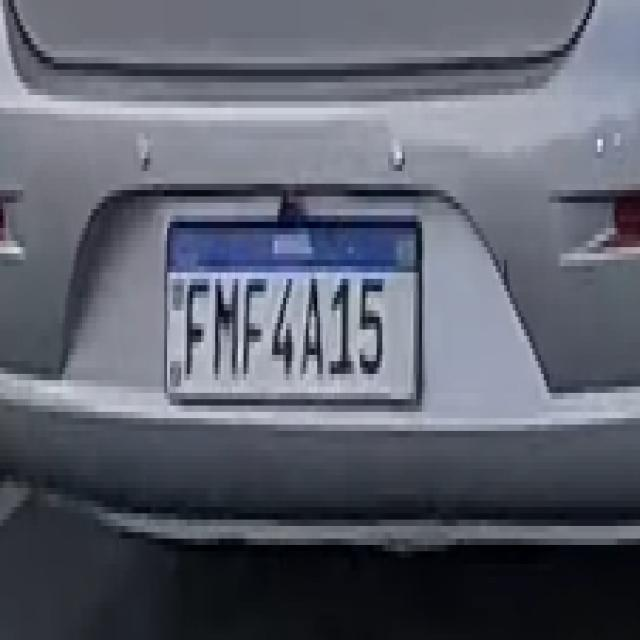Placa_mercosul_carro: (163, 213, 425, 404)
